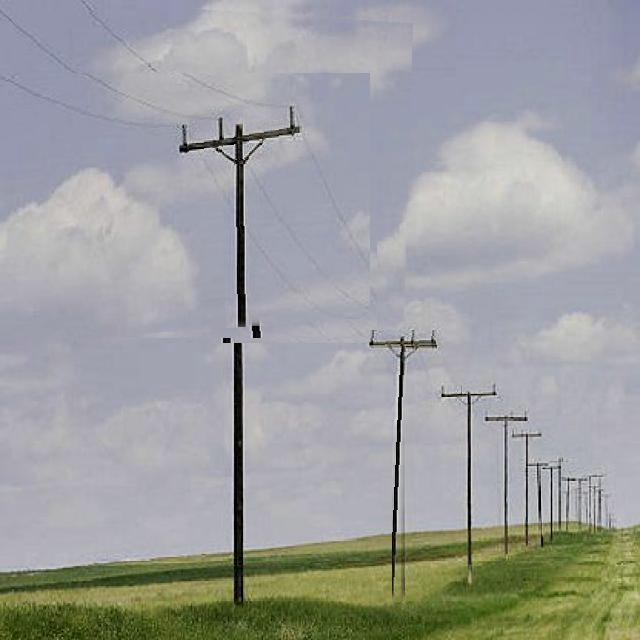crossarm: (176, 148, 301, 164), (369, 330, 439, 347)
pole: (392, 340, 415, 606), (232, 150, 246, 394)
wire: (2, 9, 374, 338), (79, 2, 391, 343), (0, 74, 370, 326)
